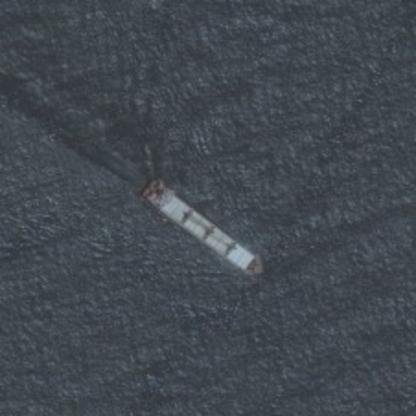ship: (124, 170, 268, 280)
